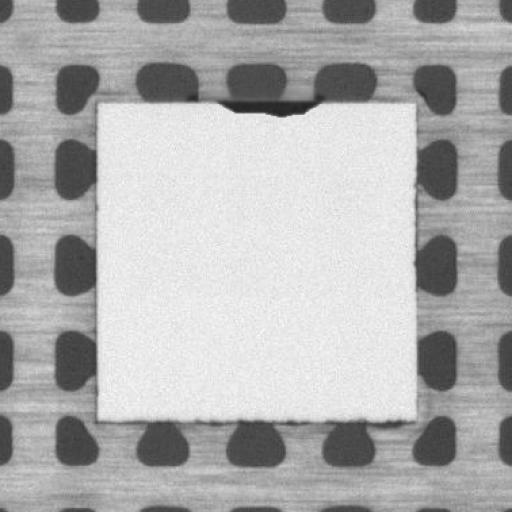DIE_BROKEN: (211, 93, 328, 119)
